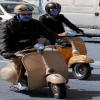motorcycles: (4, 47, 70, 100), (54, 32, 94, 78)
